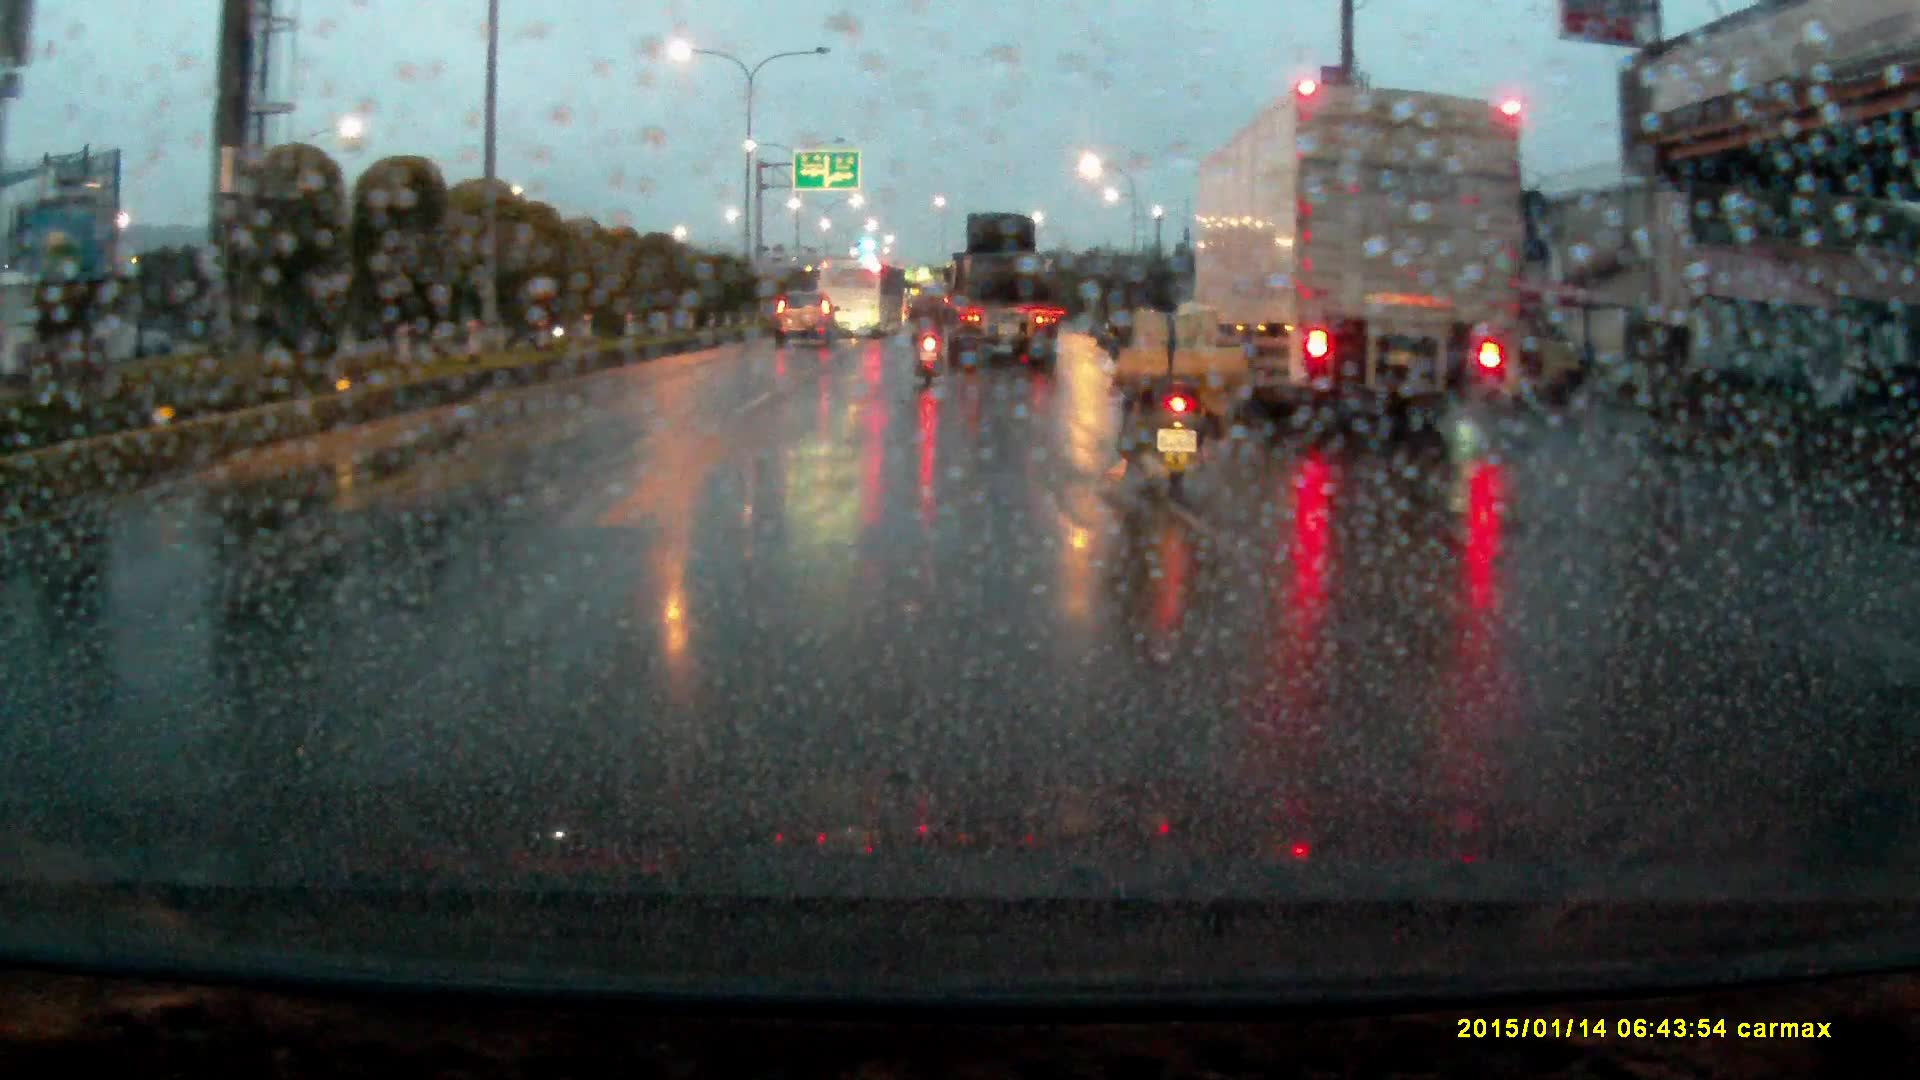rider: (1107, 253, 1239, 519), (911, 284, 952, 387)
vehicle: (1182, 77, 1531, 436), (938, 213, 1061, 370), (818, 259, 886, 338), (773, 294, 842, 355)
